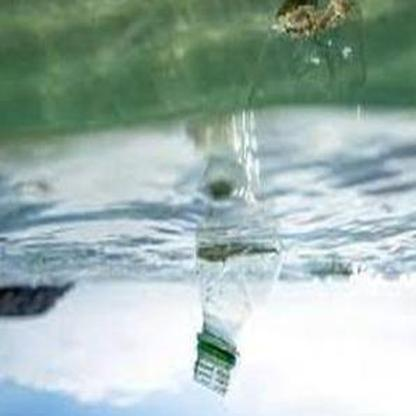plastic bottle: (194, 244, 283, 396)
